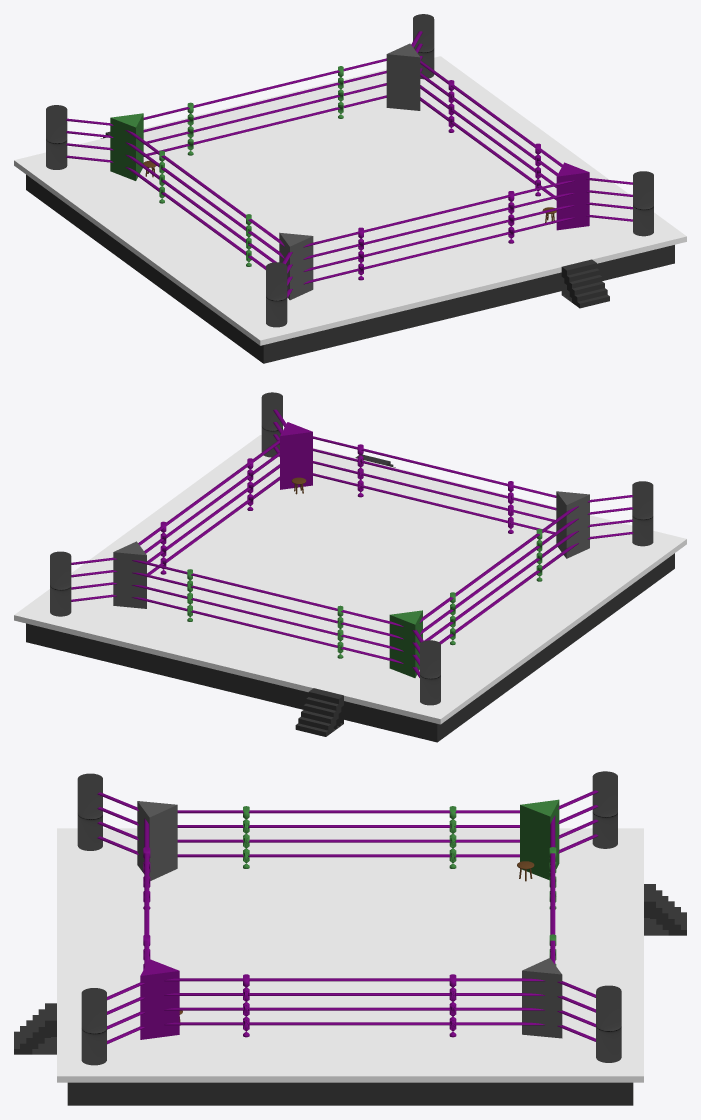
File: BoxingRing.fbx
3 views of the same model, one above another, from view 1: azimuth 30°, elevation 25°; view 2: azimuth 150°, elevation 25°; view 3: azimuth 270°, elevation 25° (orthographic). The views are drawn at different scales.
Visible parts, largest first — view 1: BaseTop; view 2: BaseTop; view 3: BaseTop.
Boxes of the visible parts, x1,y1,x2,y2 form: BaseTop: (14,14,686,363); BaseTop: (14,392,686,742); BaseTop: (14,771,686,1105).
Bounding box in the file's own units: 3979 × 753 × 4563.
